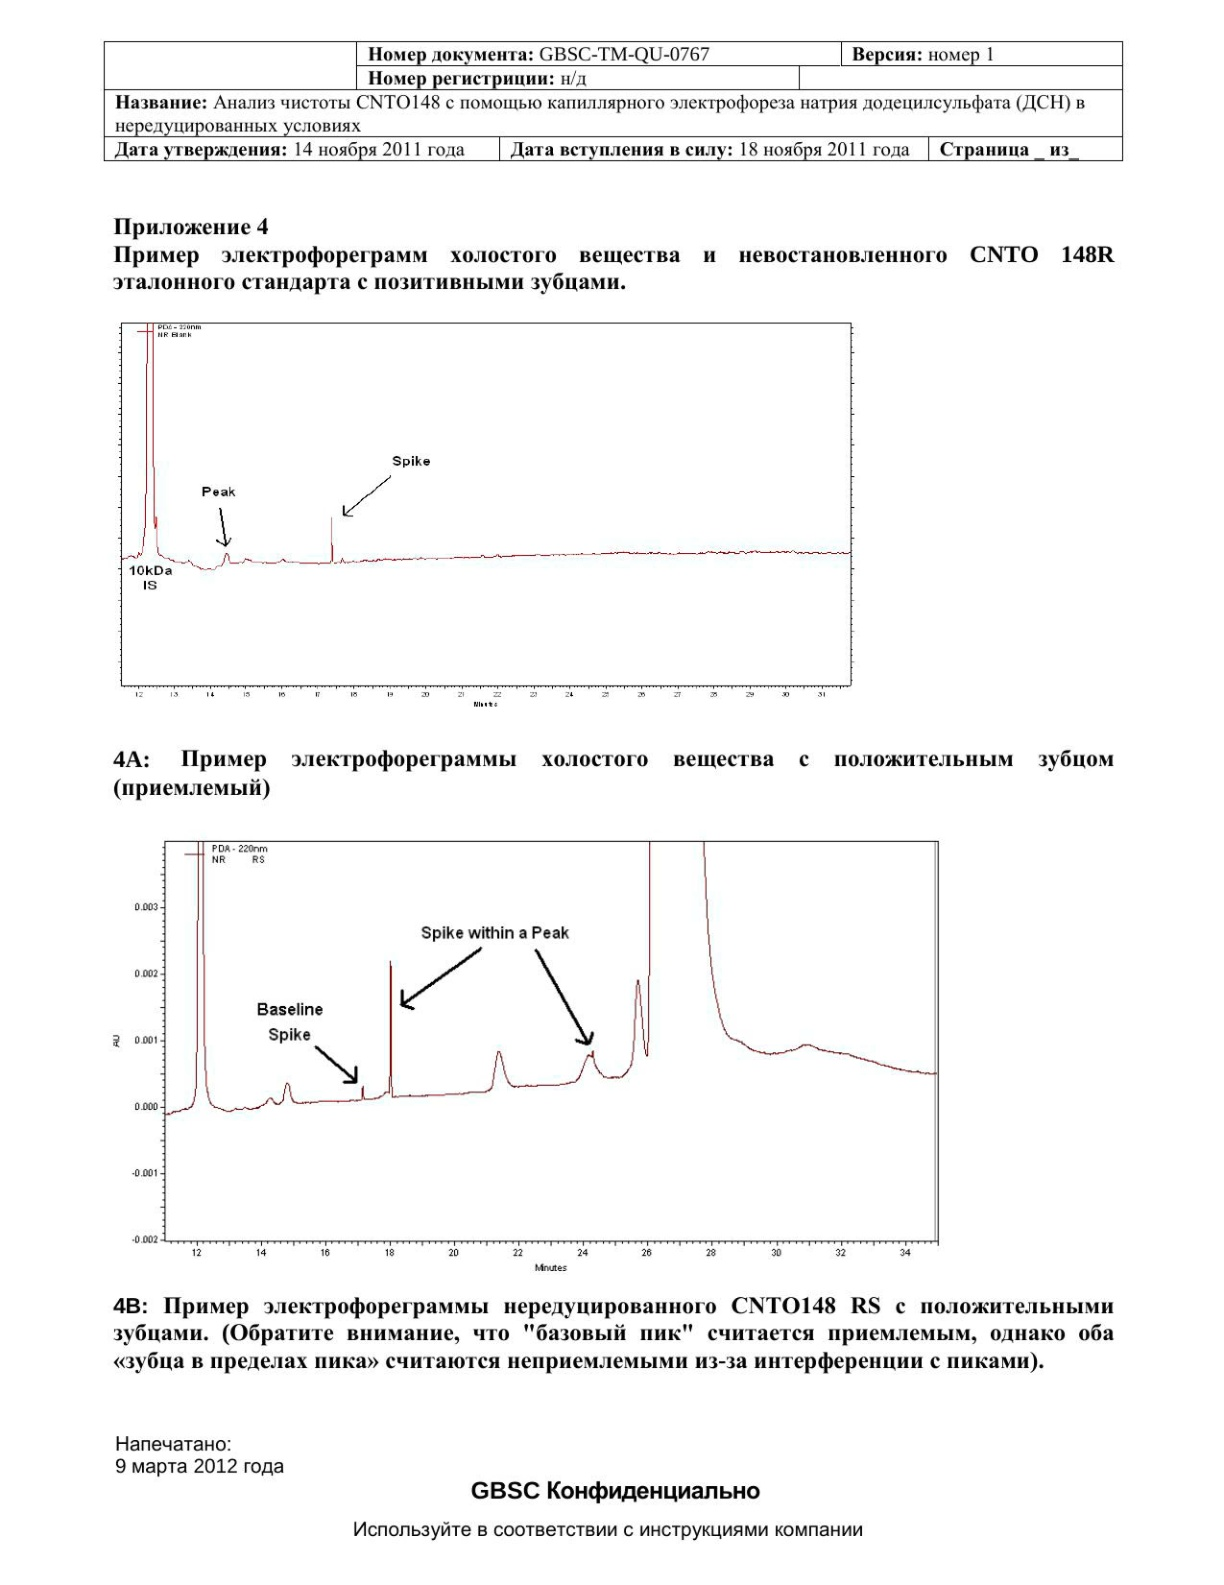merged_cells: (103, 41, 1125, 162)
